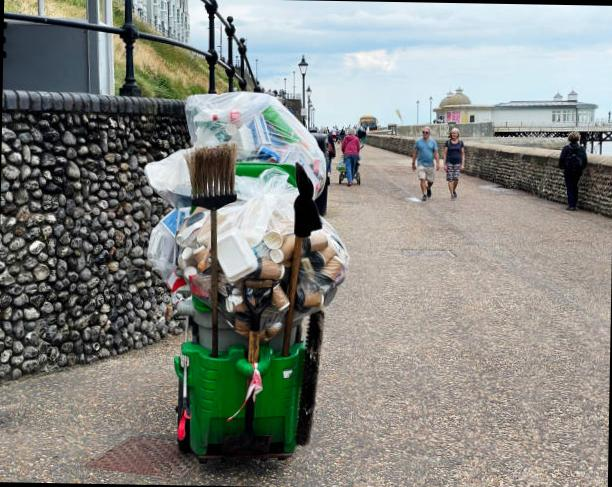trash: (182, 96, 328, 188), (222, 174, 289, 334), (287, 198, 356, 313), (158, 203, 205, 306), (146, 149, 191, 226)
trash_can_overflow: (134, 102, 370, 472)
